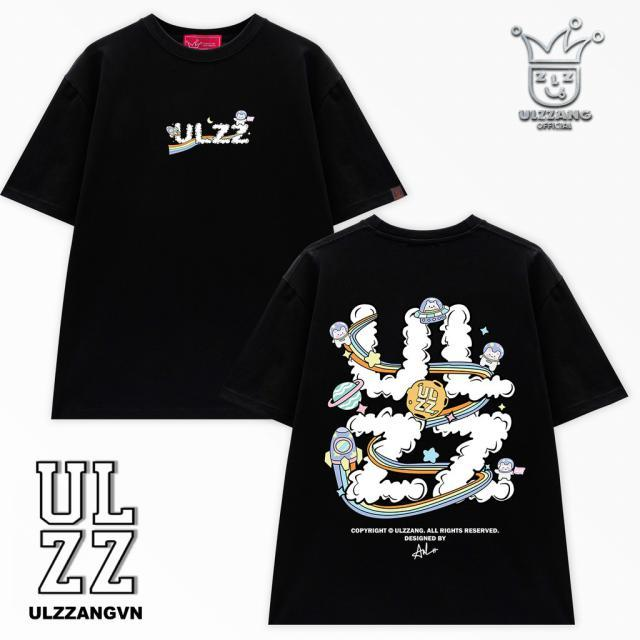Shirt: (0, 8, 408, 428), (248, 215, 634, 624)
